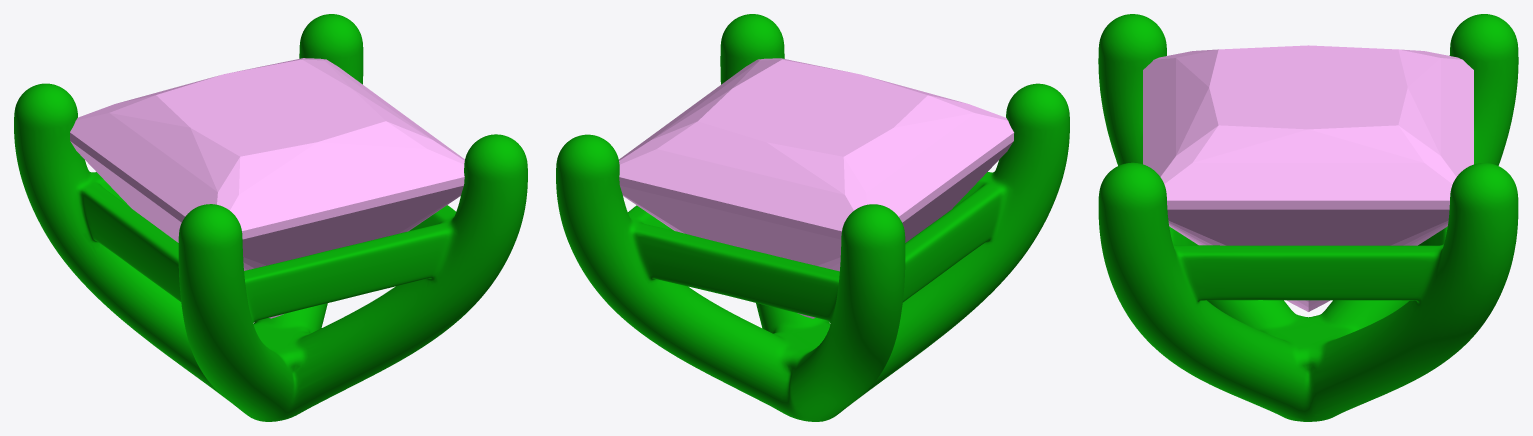
The picture shows the model from 3 angles, left to right: view 1: azimuth 30°, elevation 25°; view 2: azimuth 150°, elevation 25°; view 3: azimuth 270°, elevation 25°; orthographic projection. The views are drawn at different scales.
Visible parts, largest first — view 1: Metal01, Diamond_Princess; view 2: Metal01, Diamond_Princess; view 3: Metal01, Diamond_Princess.
Part boxes in pixels (x1,y1,x2,y2): Metal01: [14, 14, 527, 421]; Diamond_Princess: [70, 58, 464, 318]; Metal01: [556, 14, 1069, 421]; Diamond_Princess: [619, 58, 1014, 318]; Metal01: [1098, 14, 1518, 421]; Diamond_Princess: [1143, 45, 1473, 311].
Size of the model in its own units: 8 by 6.81 by 7.99.
